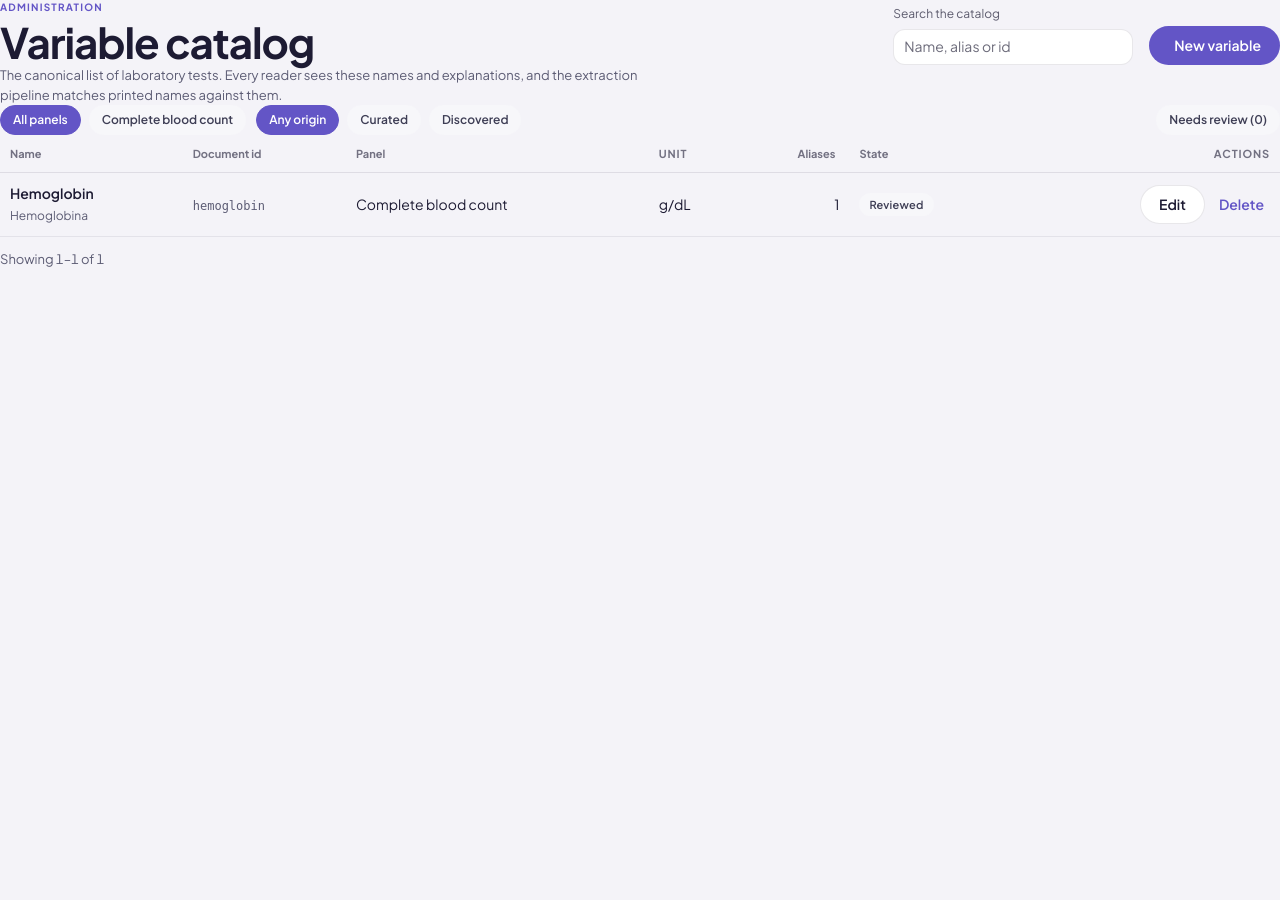
Test: creating a variable › warns about a probable duplicate without blocking the save
Click the button "New variable" at (1215, 45), box [1149,26,1279,64]
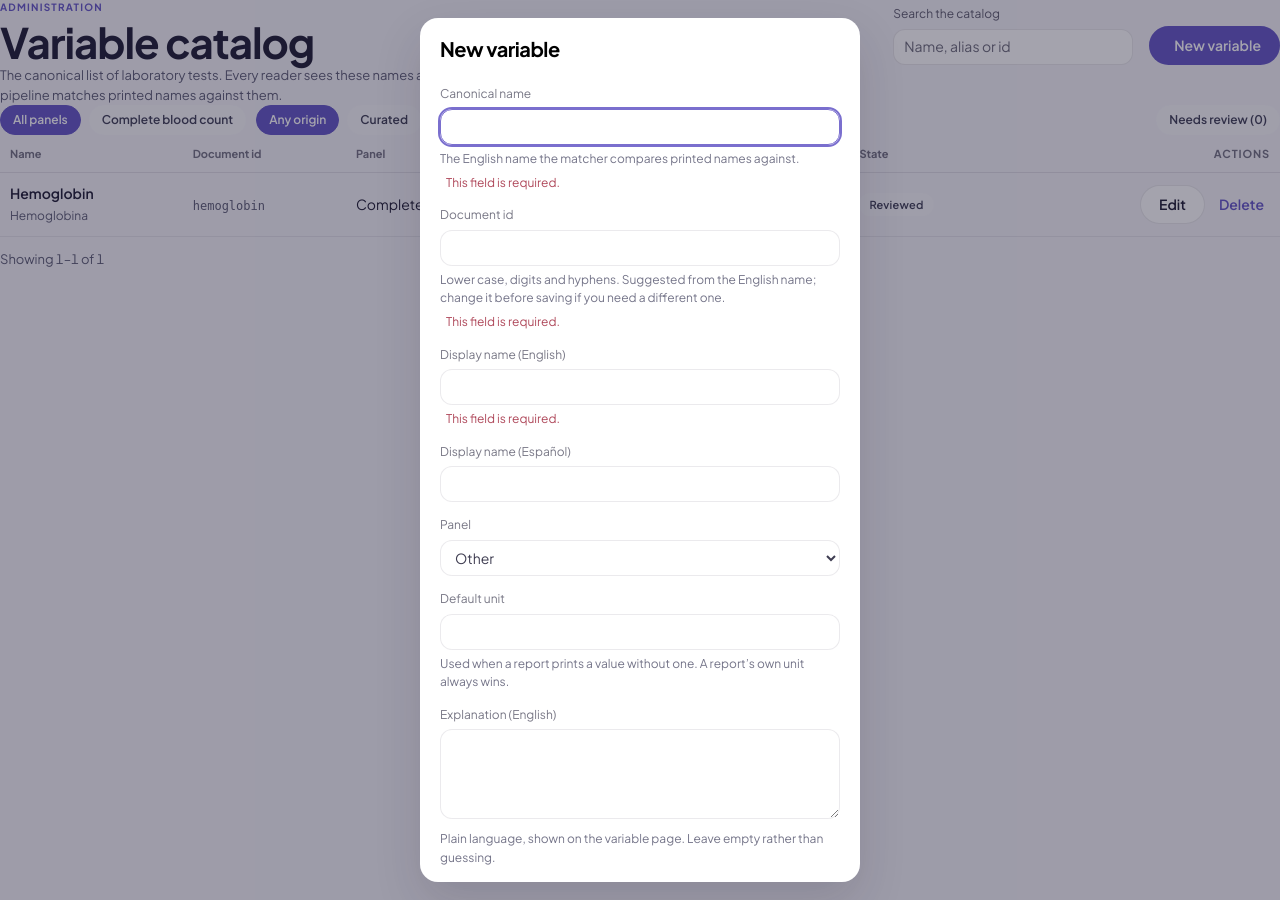
Type "HEMOGLOBINA" into the field labelled "Canonical name" at (640, 127), box [440,109,840,145]
(page scrolled)
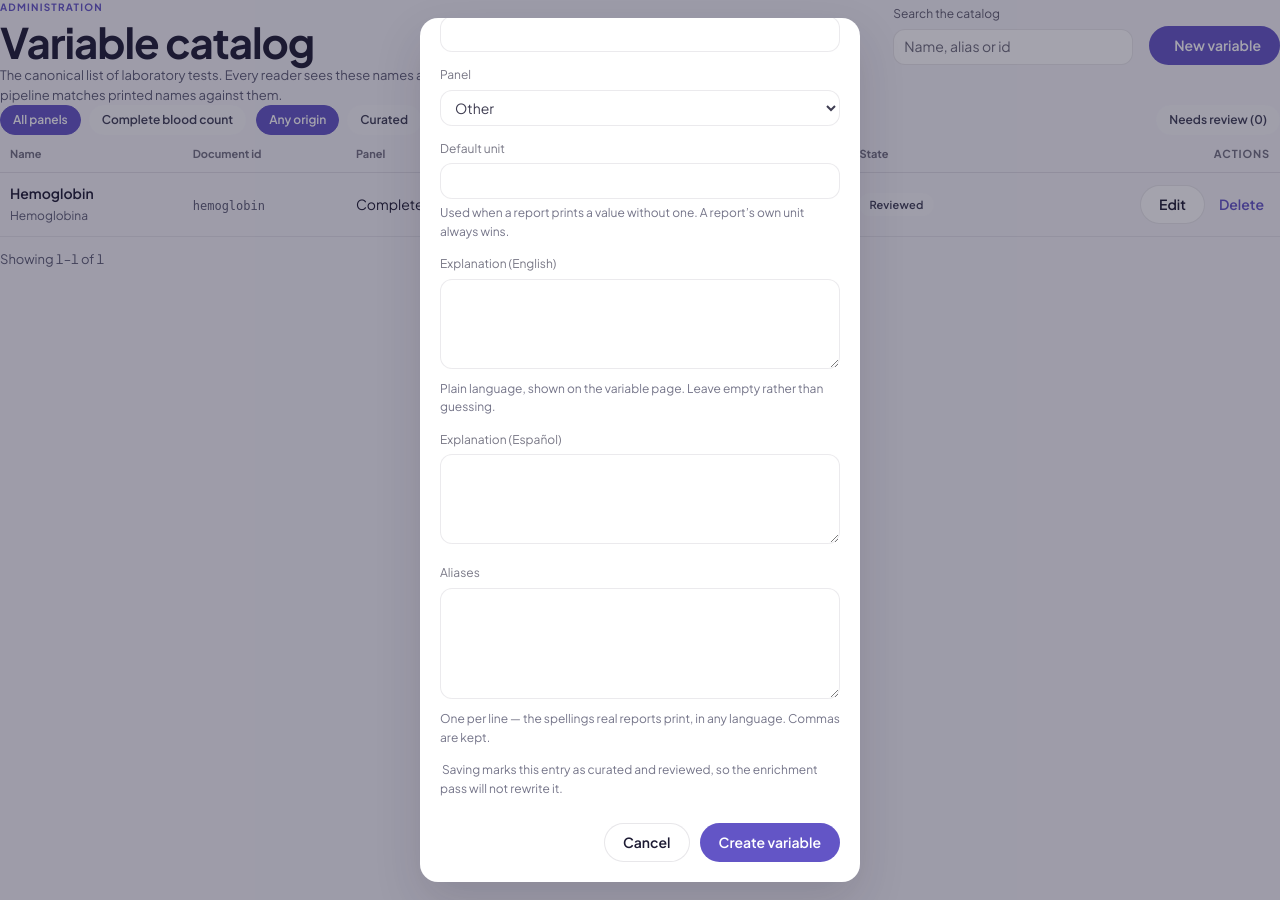
Expected: the button "Create variable" is enabled, [700,823,840,862]
